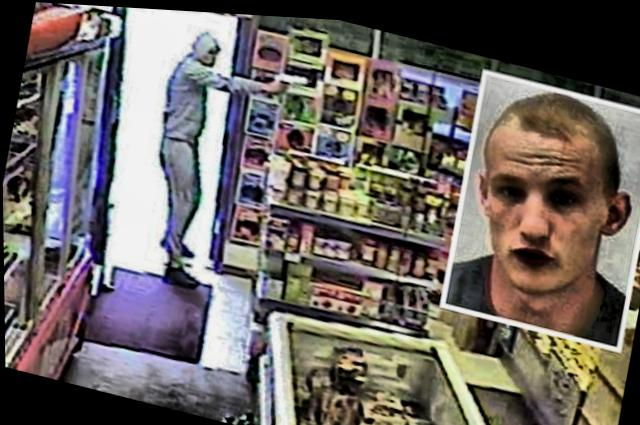pistol: (256, 56, 309, 100)
